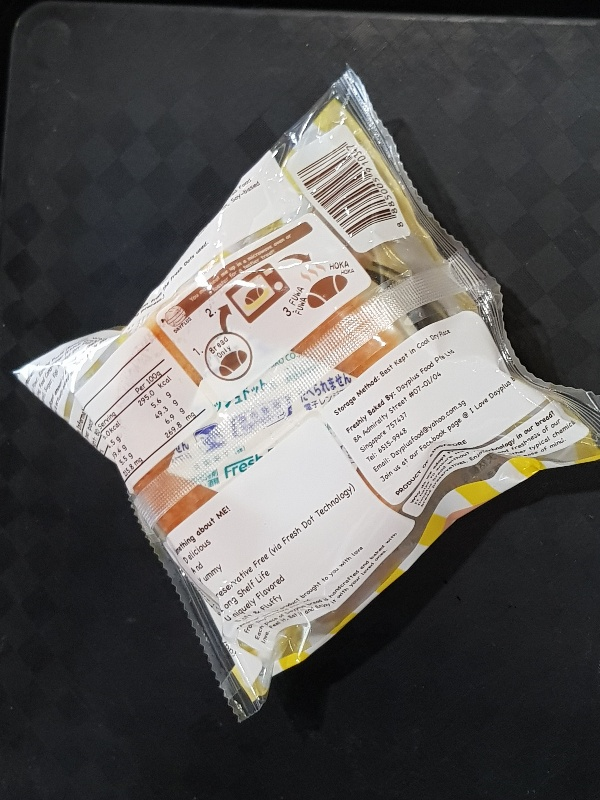Dayplus Banana: (10, 66, 600, 723)
